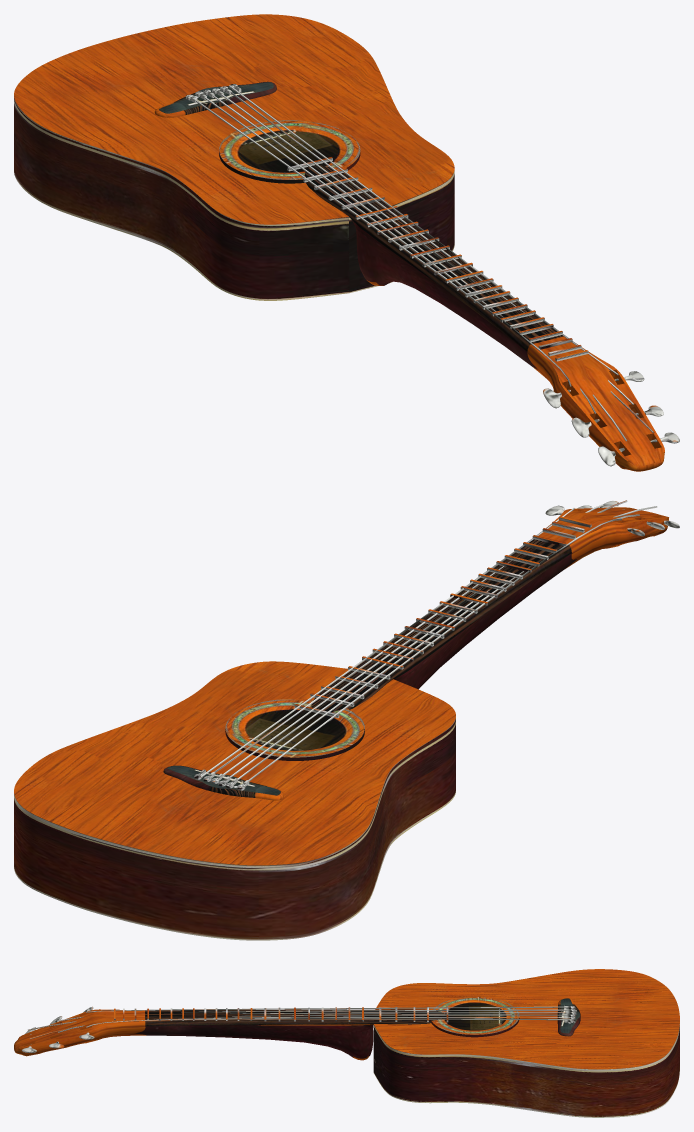
File: 10367_AcousticGuitar_v01_it2.obj
The picture shows the model from 3 angles, top to bottom: view 1: azimuth 30°, elevation 25°; view 2: azimuth 150°, elevation 25°; view 3: azimuth 270°, elevation 25°; orthographic projection. The views are drawn at different scales.
Visible parts, largest first — view 1: 10367_AcousticGuitar_v01; view 2: 10367_AcousticGuitar_v01; view 3: 10367_AcousticGuitar_v01.
Part boxes in pixels (x1=…): 10367_AcousticGuitar_v01: x1=14, y1=14, x2=679, y2=471; 10367_AcousticGuitar_v01: x1=14, y1=500, x2=679, y2=940; 10367_AcousticGuitar_v01: x1=14, y1=969, x2=679, y2=1117.
Size of the model in its own units: 441 by 110 by 1239.
1 material, 1 textured.
